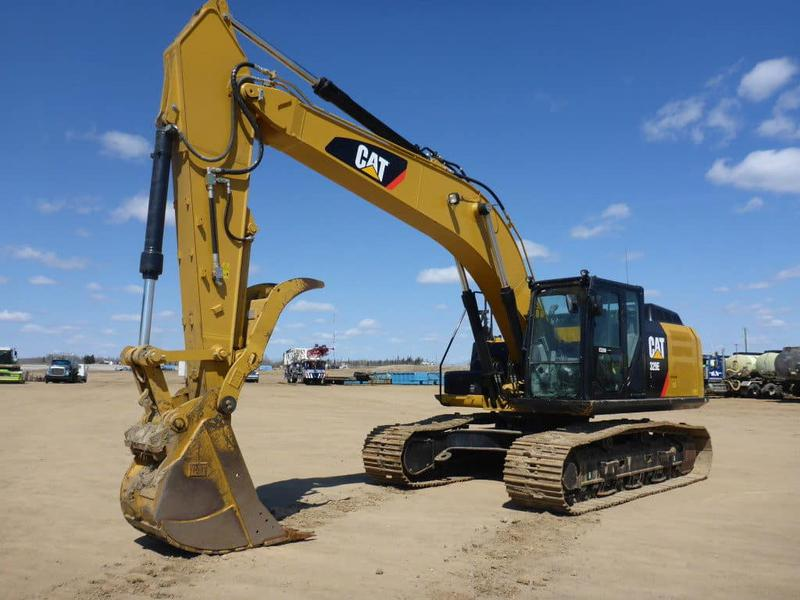shovel: (114, 4, 719, 561)
